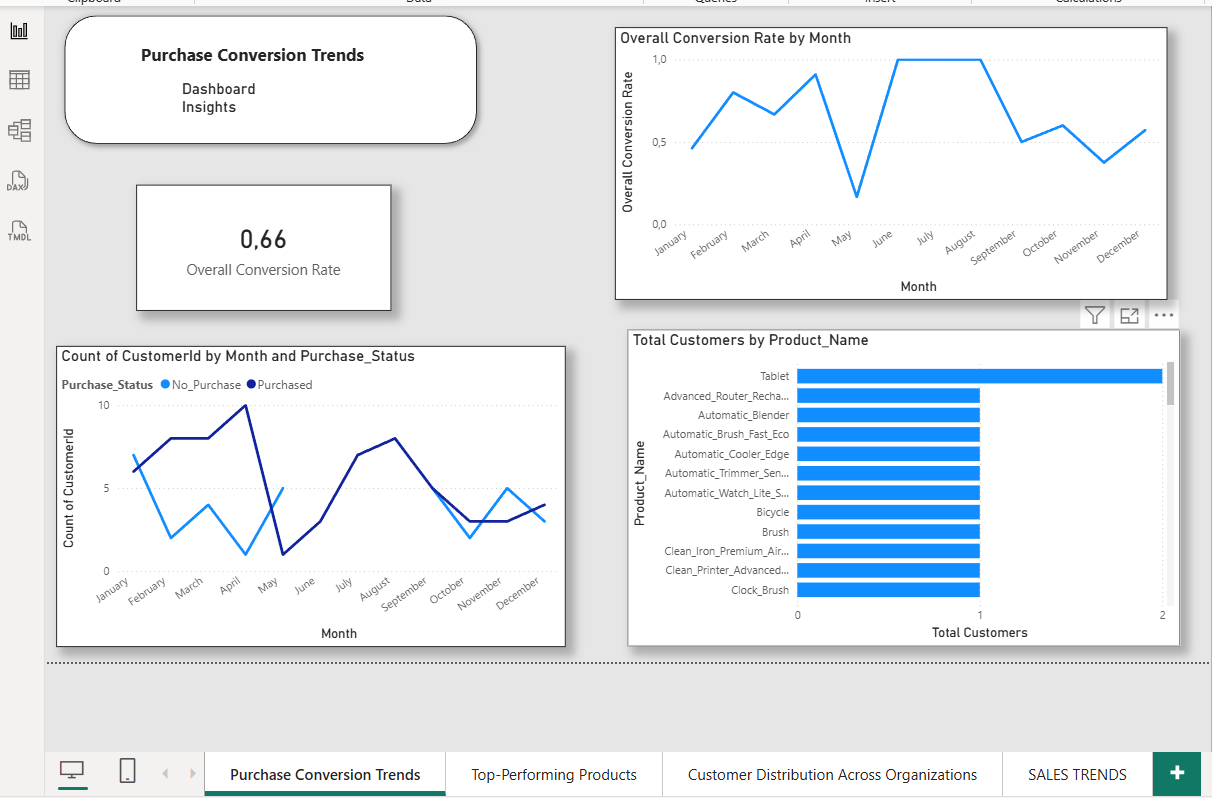

The dashboard page shown, as its layout file describes it:
{"tool":"powerbi","page":{"name":"Purchase Conversion Trends","canvas":[1280,720],"ordinal":0},"visuals":[{"type":"shape","box":[12.2,1.2,470.8,159],"z":0,"group":"g1"},{"type":"card","fields":{"Values":["Customers_Data.Conversion Rate"]},"box":[100.3,196.9,280,138.2],"z":0},{"type":"textbox","box":[100.2,35.4,255.6,45.2],"z":1000,"group":"g1"},{"type":"lineChart","fields":{"Category":["Customers_Data.Subscription_Date.Variation.Date Hierarchy.Month"],"Series":["Customers_Data.Purchase_Status"],"Y":["CountNonNull(Customers_Data.CustomerId)"]},"box":[12.2,373,558.8,330.2],"z":1000},{"type":"textbox","title":"Dashboard Insights","box":[145.5,80.7,160.2,45.2],"z":2000,"group":"g1"},{"type":"barChart","fields":{"Category":["Customers_Data.Product_Name"],"Y":["Customers_Data.Total Customers"]},"box":[639.5,355.8,606.5,347.3],"z":2000},{"type":"lineChart","fields":{"Category":["Customers_Data.StartOfMonth.Variation.Date Hierarchy.Month"],"Y":["Customers_Data.Overall Conversion Rate"]},"box":[626.1,23.2,606.5,299.6],"z":3000},{"type":"group","id":"g1","title":"Group 1","box":[12.2,1.2,470.8,159],"z":4004}]}

Visuals, with their boxes on the page's 1280x720 design canvas (x1, y1, x2, y2). These are canvas units, not pixel positions in the 1212x798 screenshot, which may show the page scaled, cropped or inside an application window:
shape: [x1=12, y1=1, x2=483, y2=160]
card - Customers_Data.Conversion Rate: [x1=100, y1=197, x2=380, y2=335]
textbox: [x1=100, y1=35, x2=356, y2=81]
lineChart - Customers_Data.Subscription_Date.Variation.Date Hierarchy.Month x Customers_Data.Purchase_Status: [x1=12, y1=373, x2=571, y2=703]
"Dashboard Insights" textbox: [x1=146, y1=81, x2=306, y2=126]
barChart - Customers_Data.Product_Name x Customers_Data.Total Customers: [x1=640, y1=356, x2=1246, y2=703]
lineChart - Customers_Data.StartOfMonth.Variation.Date Hierarchy.Month x Customers_Data.Overall Conversion Rate: [x1=626, y1=23, x2=1233, y2=323]
"Group 1" group: [x1=12, y1=1, x2=483, y2=160]
